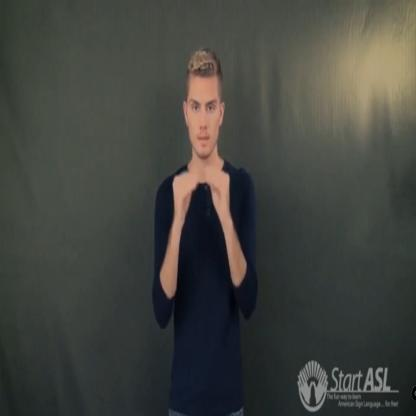Fix: (166, 150, 234, 243)
